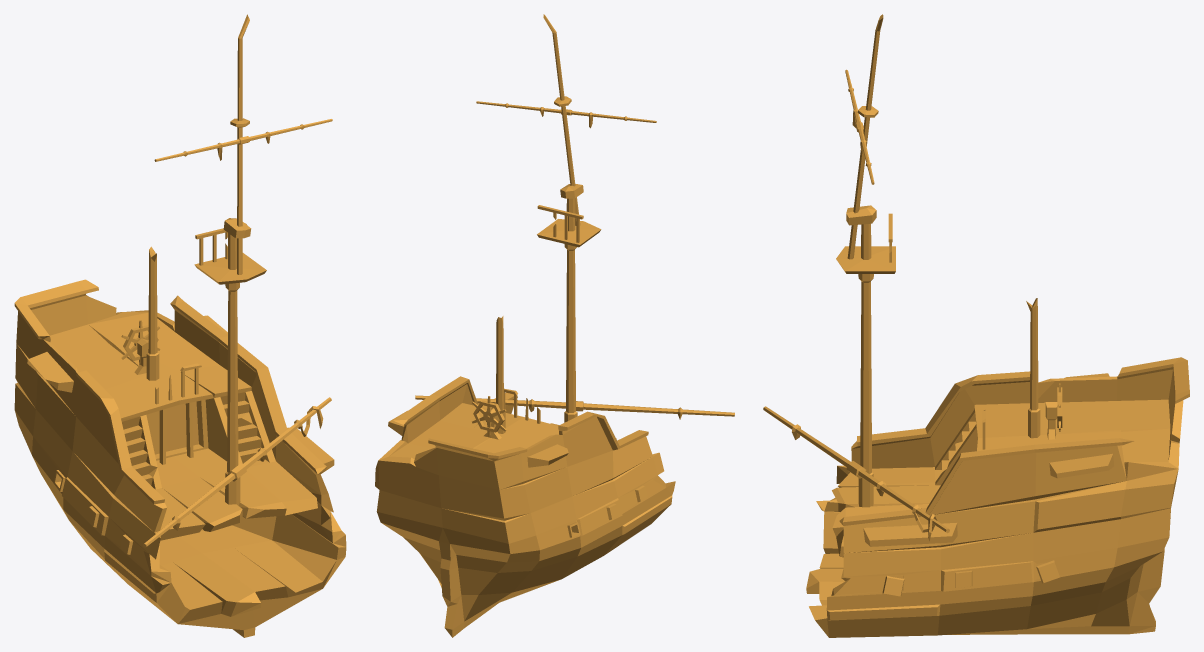
File: ship-pirate-vreck-back.fbx
The picture shows the model from 3 angles, left to right: view 1: azimuth 30°, elevation 25°; view 2: azimuth 150°, elevation 25°; view 3: azimuth 270°, elevation 25°; orthographic projection. The views are drawn at different scales.
Visible parts, largest first — view 1: ship-pirate-vreck-back; view 2: ship-pirate-vreck-back; view 3: ship-pirate-vreck-back.
Boxes of the visible parts, x1,y1,x2,y2 form: ship-pirate-vreck-back: (14, 14, 346, 637); ship-pirate-vreck-back: (375, 14, 734, 637); ship-pirate-vreck-back: (763, 14, 1189, 637).
Bounding box in the file's own units: 10.76 × 22.5 × 13.78.
